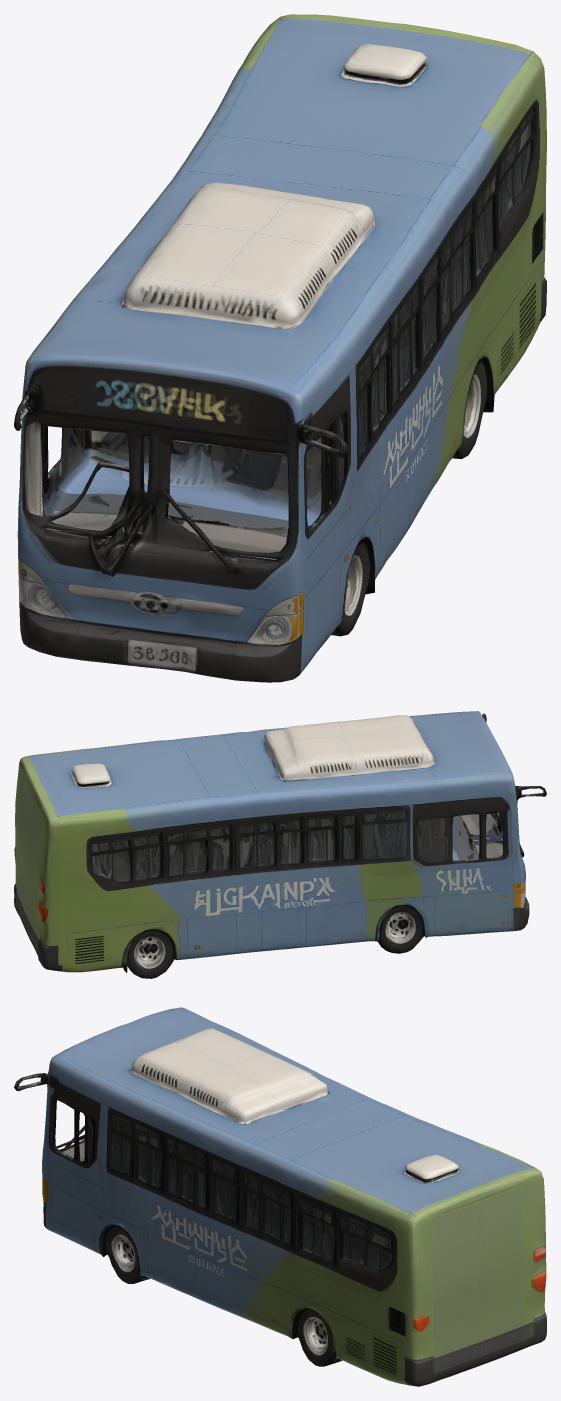
File: Blue Green City Bus.fbx
3 renders of one model, top to bottom at view 1: azimuth 30°, elevation 25°; view 2: azimuth 150°, elevation 25°; view 3: azimuth 270°, elevation 25°, orthographic. The views are drawn at different scales.
Parts seen in each view (by area): view 1: input; view 2: input; view 3: input.
Boxes of the visible parts, x1,y1,x2,y2 form: input: (14, 14, 546, 682); input: (14, 711, 546, 978); input: (14, 1007, 546, 1386).
Size of the model in its own units: 99.85 by 44.1 by 99.64.
1 material, 1 textured.
